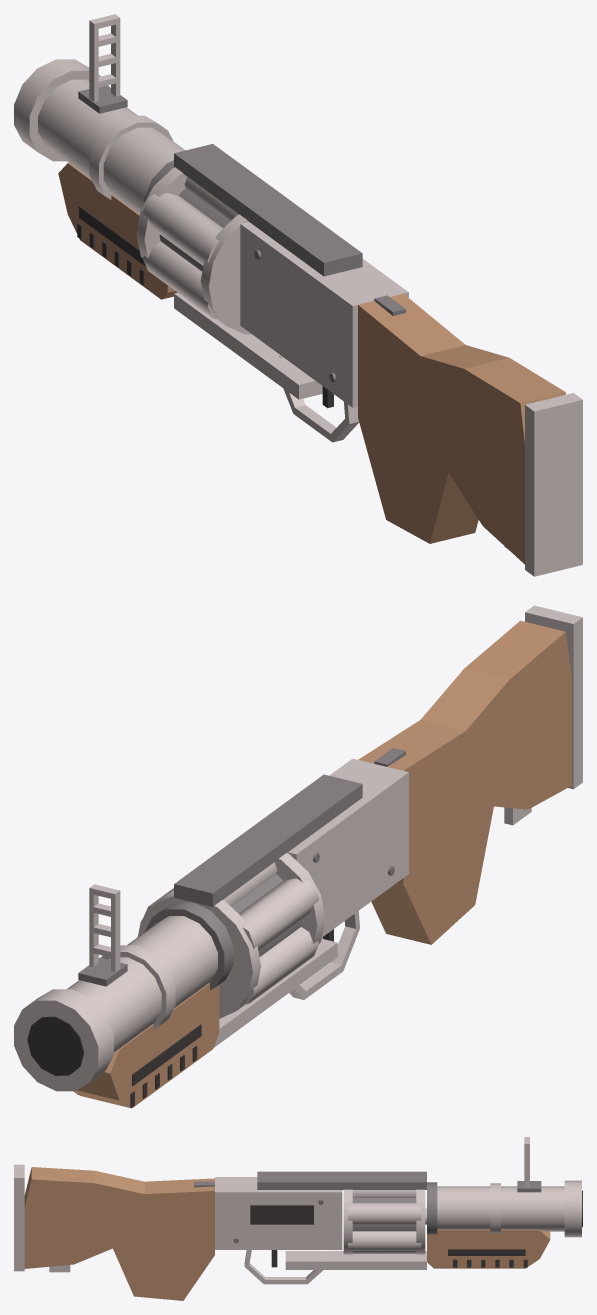
Rendered from grenade_launcher_assembled.glb.
3 renders of one model, top to bottom at view 1: azimuth 30°, elevation 25°; view 2: azimuth 150°, elevation 25°; view 3: azimuth 270°, elevation 25°, orthographic. The views are drawn at different scales.
Parts seen in each view (by area): view 1: stock, receiver, barrel, cylinder, forend, sight; view 2: stock, receiver, barrel, cylinder, forend, sight; view 3: stock, receiver, barrel, cylinder, forend, sight.
Part boxes in pixels (left/top/right/bottom): stock: left=358, top=293, right=582, bottom=576; receiver: left=174, top=144, right=408, bottom=442; barrel: left=14, top=59, right=185, bottom=214; cylinder: left=136, top=167, right=251, bottom=334; forend: left=58, top=163, right=177, bottom=299; sight: left=78, top=14, right=127, bottom=113; stock: left=358, top=605, right=582, bottom=944; receiver: left=174, top=748, right=408, bottom=1047; barrel: left=14, top=902, right=233, bottom=1091; cylinder: left=137, top=853, right=325, bottom=1018; forend: left=73, top=983, right=219, bottom=1108; sight: left=78, top=884, right=127, bottom=986; stock: left=14, top=1164, right=214, bottom=1300; receiver: left=194, top=1171, right=426, bottom=1284; barrel: left=427, top=1180, right=582, bottom=1237; cylinder: left=343, top=1189, right=426, bottom=1254; forend: left=427, top=1229, right=550, bottom=1268; sight: left=517, top=1137, right=541, bottom=1192.
Size of the model in its own units: 0.108 by 0.241 by 0.8062.
